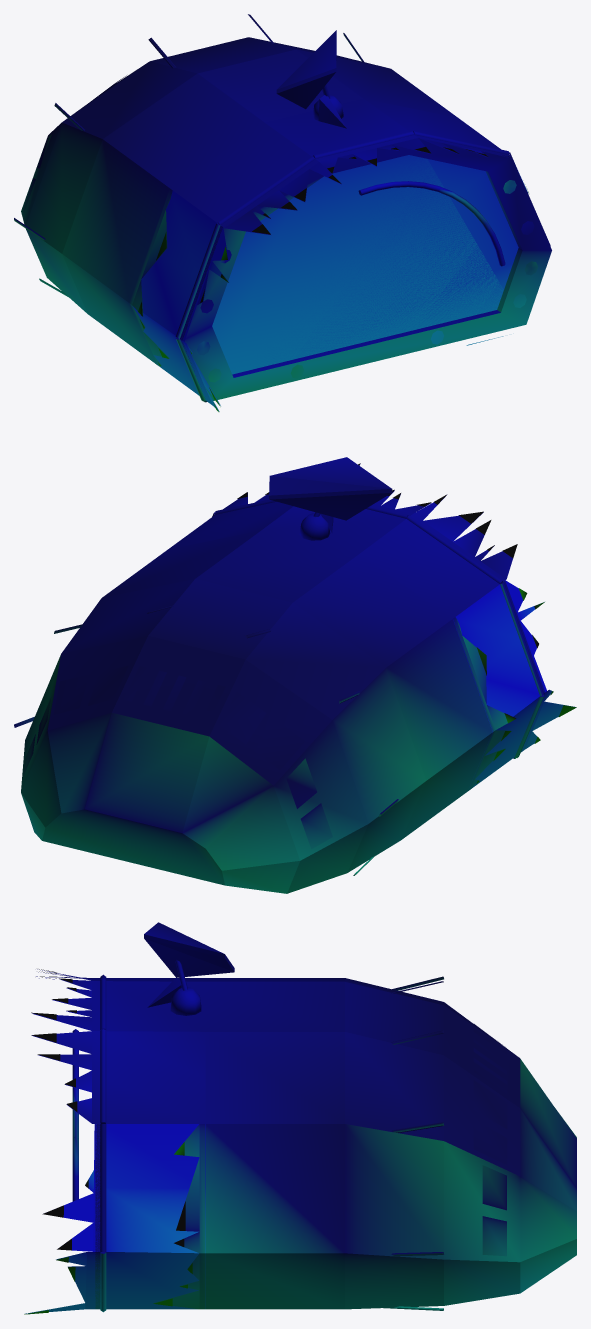
File: crashnose.glb
3 views of the same model, one above another, from view 1: azimuth 30°, elevation 25°; view 2: azimuth 150°, elevation 25°; view 3: azimuth 270°, elevation 25° (orthographic). The views are drawn at different scales.
Visible parts, largest first — view 1: lod0; view 2: lod0; view 3: lod0.
Boxes of the visible parts, bbox=[...] form: lod0: bbox=[14, 14, 551, 411]; lod0: bbox=[14, 457, 576, 893]; lod0: bbox=[24, 922, 576, 1314].
Size of what is drawn, in the model's own units: 28.12 by 20.43 by 34.71.
